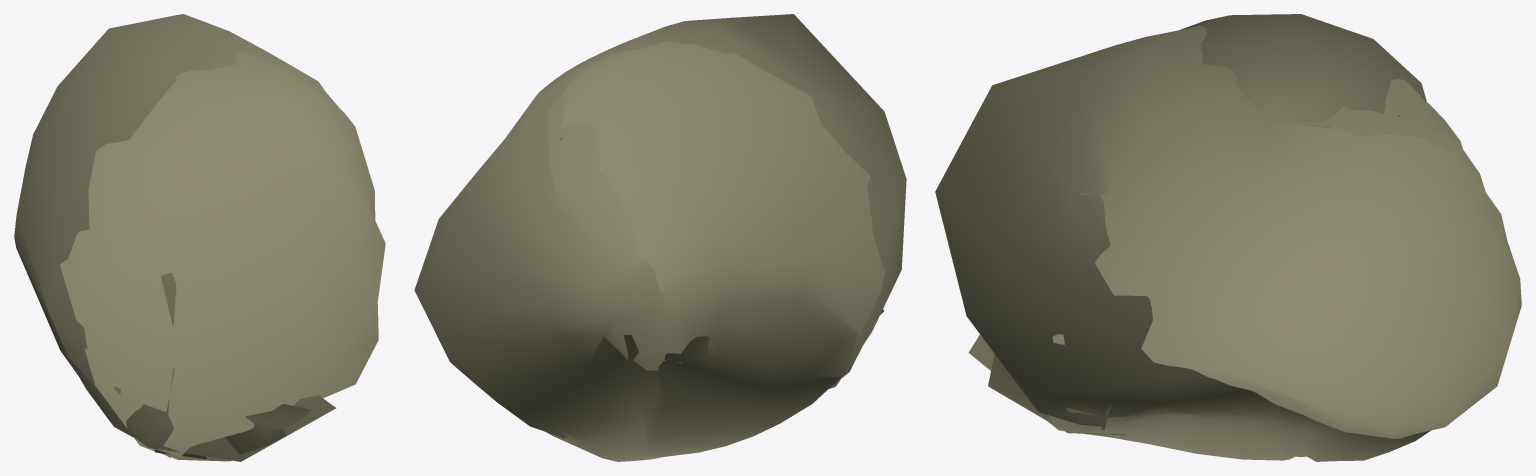
The model's file is asteroide .fbx.
3 renders of one model, left to right at view 1: azimuth 30°, elevation 25°; view 2: azimuth 150°, elevation 25°; view 3: azimuth 270°, elevation 25°, orthographic. The views are drawn at different scales.
Parts seen in each view (by area): view 1: Sphere; view 2: Sphere; view 3: Sphere.
Boxes of the visible parts, x1,y1,x2,y2 form: Sphere: (14,14,385,461); Sphere: (414,14,906,461); Sphere: (935,14,1521,461).
Size of the model in its own units: 353 by 371 by 458.
